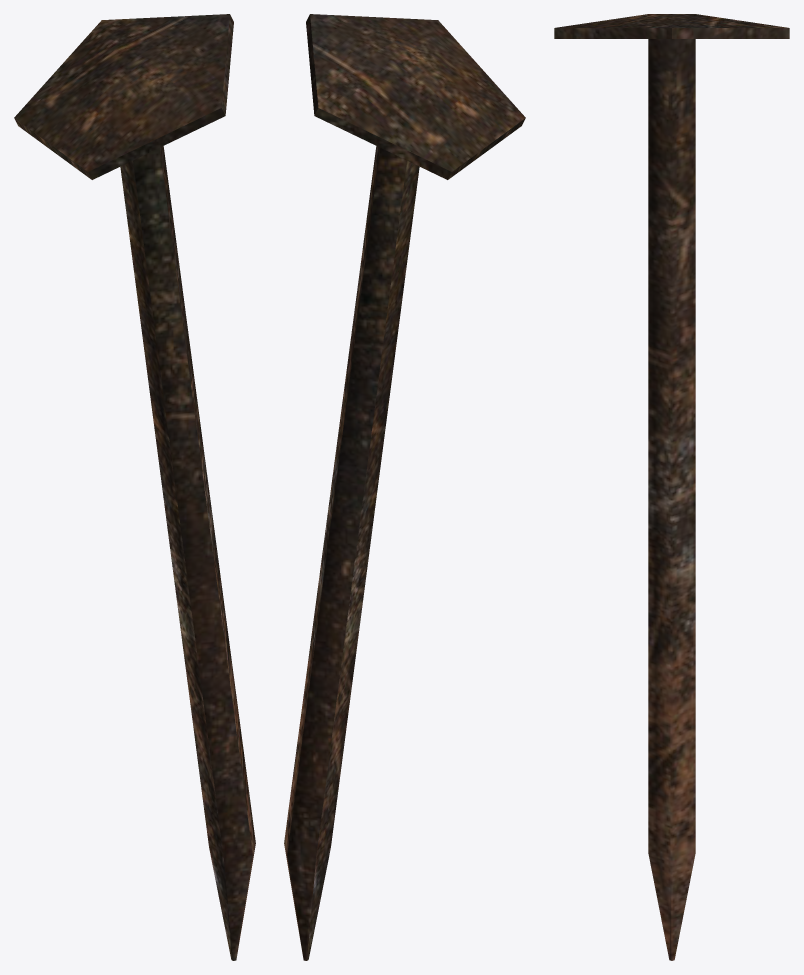
The model's file is Nail3.FBX.
3 views of the same model, side by side, from view 1: azimuth 30°, elevation 25°; view 2: azimuth 150°, elevation 25°; view 3: azimuth 270°, elevation 25° (orthographic).
Parts seen in each view (by area): view 1: Nail3; view 2: Nail3; view 3: Nail3.
Part boxes in pixels (x1=…): Nail3: x1=14, y1=14, x2=255, y2=960; Nail3: x1=284, y1=14, x2=525, y2=960; Nail3: x1=554, y1=14, x2=789, y2=960.
Bounding box in the file's own units: 5.54 × 24.49 × 5.62.
